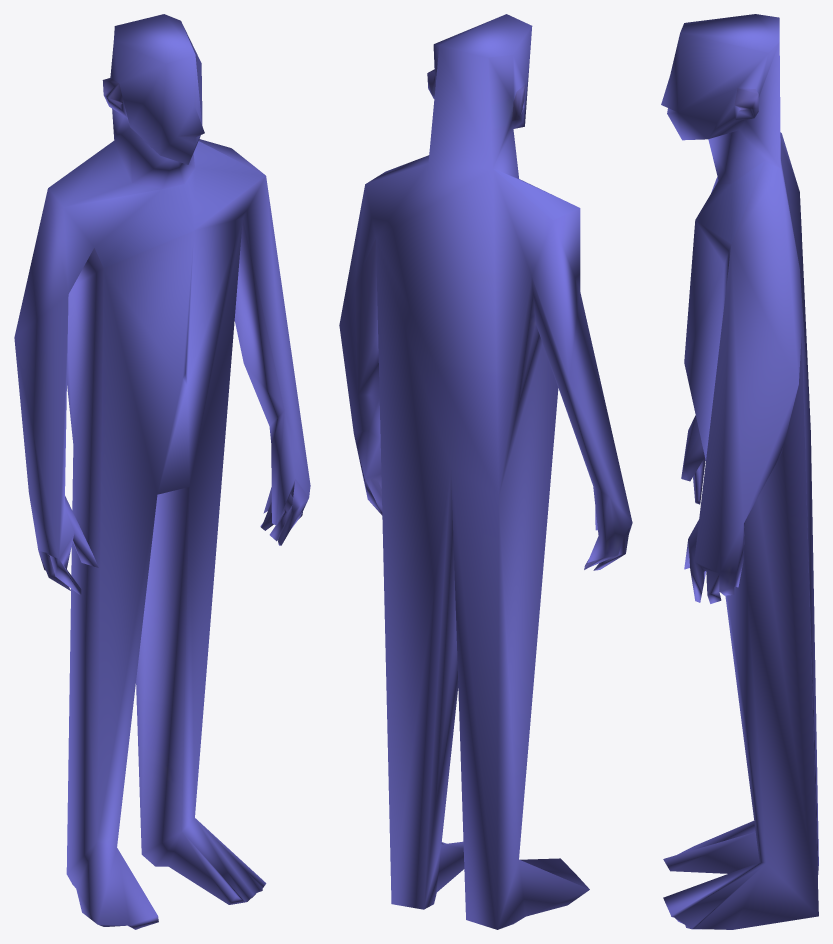
The model's file is model.progressive.glb.
3 views of the same model, side by side, from view 1: azimuth 30°, elevation 25°; view 2: azimuth 150°, elevation 25°; view 3: azimuth 270°, elevation 25° (orthographic).
Parts seen in each view (by area): view 1: material; view 2: material; view 3: material.
Boxes of the visible parts, bbox=[...] form: material: bbox=[14, 14, 310, 929]; material: bbox=[339, 14, 632, 929]; material: bbox=[661, 14, 818, 929].
Size of the model in its own units: 0.5917 by 1.85 by 0.3066.
Materials: 1 (1 with a texture image).
